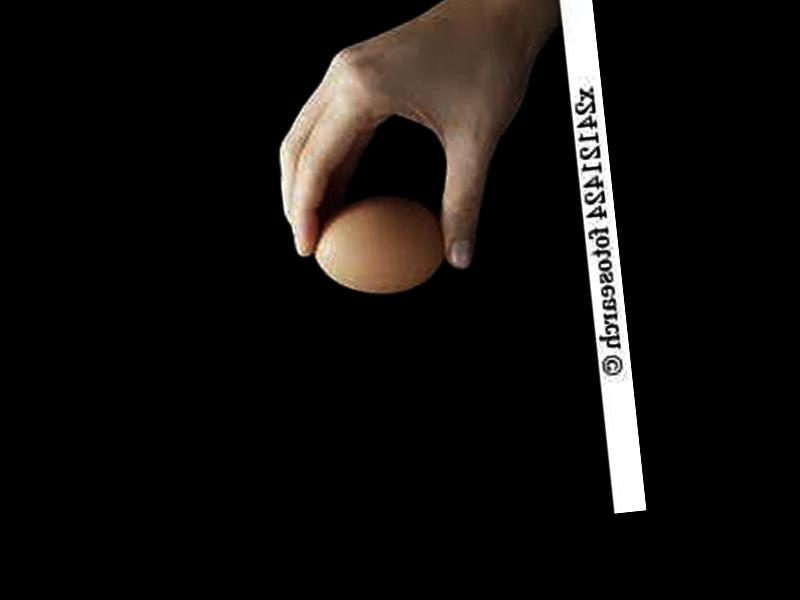Eggs: (305, 190, 448, 301)
